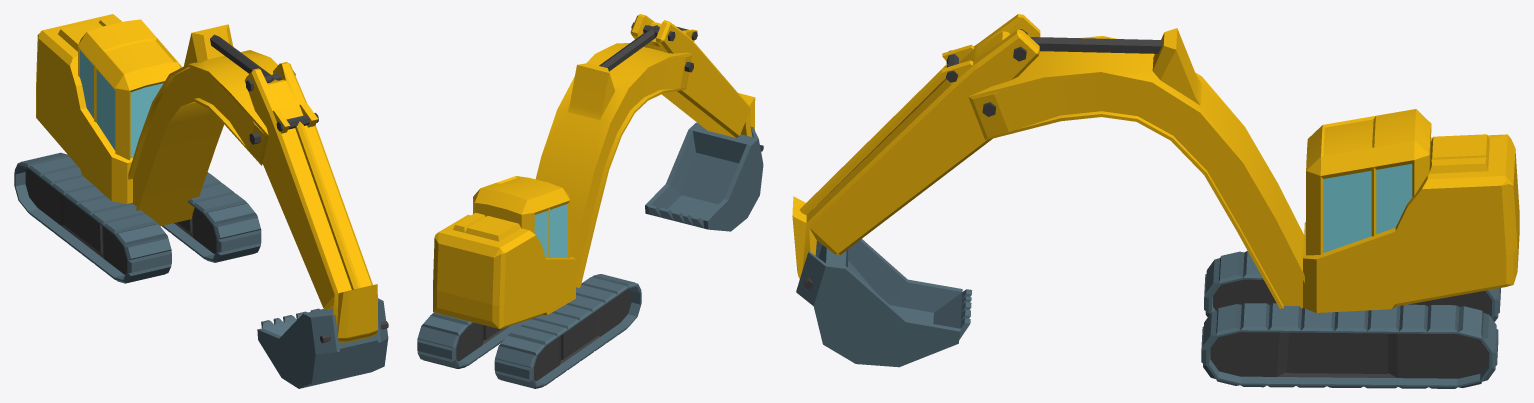
The model's file is work_machine.fbx.
The picture shows the model from 3 angles, left to right: view 1: azimuth 30°, elevation 25°; view 2: azimuth 150°, elevation 25°; view 3: azimuth 270°, elevation 25°; orthographic projection. The views are drawn at different scales.
Visible parts, largest first — view 1: work_machine; view 2: work_machine; view 3: work_machine.
Part boxes in pixels (box(x1,y1,x2,y2)): work_machine: box(14, 14, 388, 388); work_machine: box(417, 14, 763, 388); work_machine: box(792, 14, 1519, 388).
Size of the model in its own units: 33.03 by 62.06 by 126.
